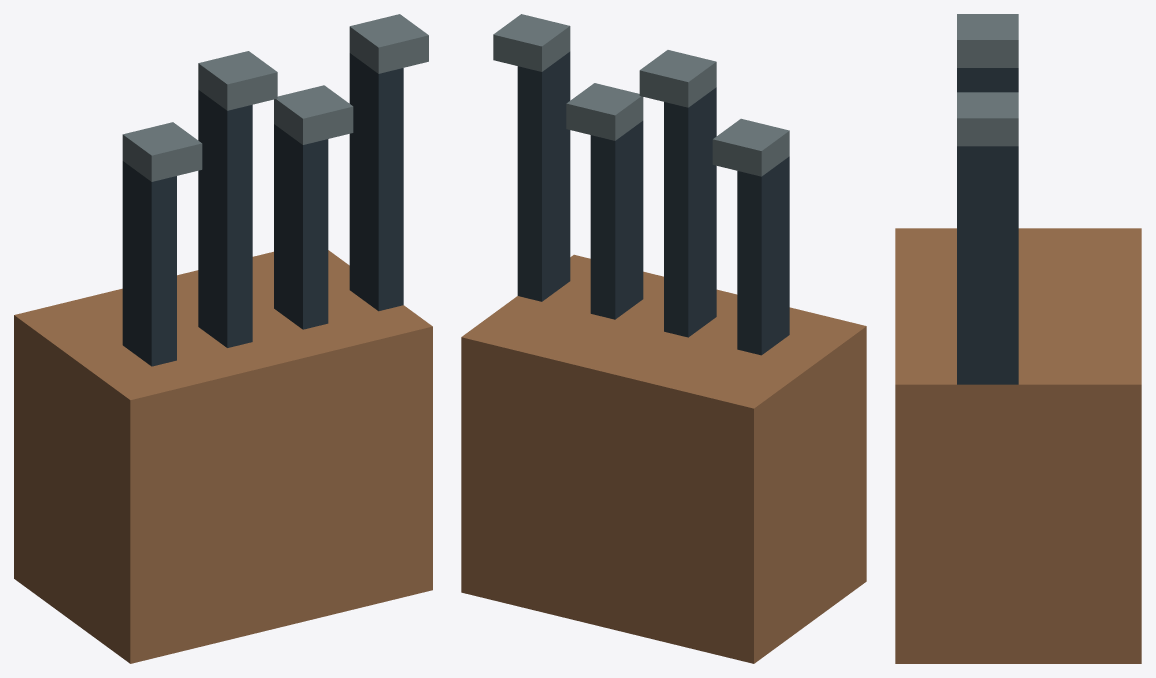
Rendered from food-18.glb.
3 renders of one model, left to right at view 1: azimuth 30°, elevation 25°; view 2: azimuth 150°, elevation 25°; view 3: azimuth 270°, elevation 25°, orthographic. The views are drawn at different scales.
Visible parts, largest first — view 1: Knife block; view 2: Knife block; view 3: Knife block.
Boxes of the visible parts, x1=… form: Knife block: x1=14, y1=14, x2=432, y2=663; Knife block: x1=461, y1=14, x2=866, y2=663; Knife block: x1=895, y1=14, x2=1141, y2=663.
Bounding box in the file's own units: 1.04 × 1.6 × 0.64.
